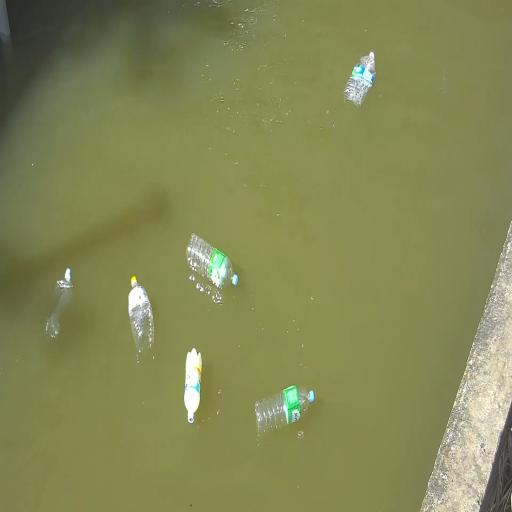plastic: (255, 386, 314, 434), (187, 234, 238, 289), (128, 276, 154, 352), (46, 268, 73, 338), (344, 52, 375, 107), (184, 348, 201, 423)
